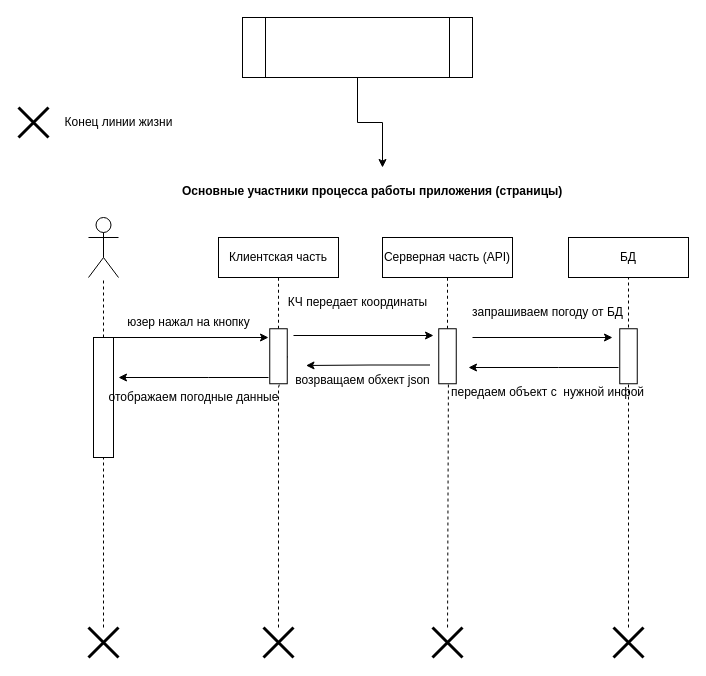
The diagram is 706 pixels wide and 676 high, and some of its shapes have lost their labels. Here are the shapes that lost their labels. From the top down, the centre of each, then its label:
point 357,47: БЛОК СХЕМА ПРИЛОЖЕНИЯ ПОГОДЫ
point 103,247: Пользователь
